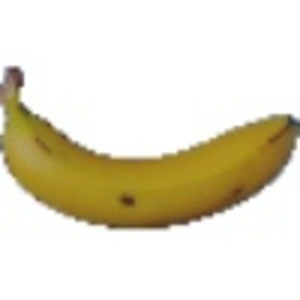banana: (3, 57, 293, 230)
